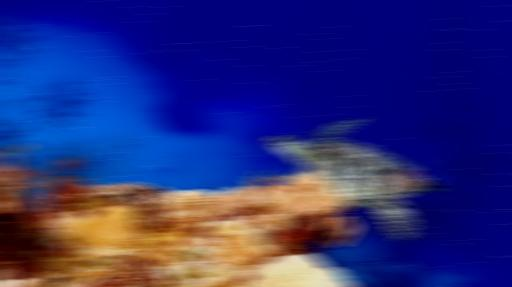Fish: (267, 119, 438, 240)
